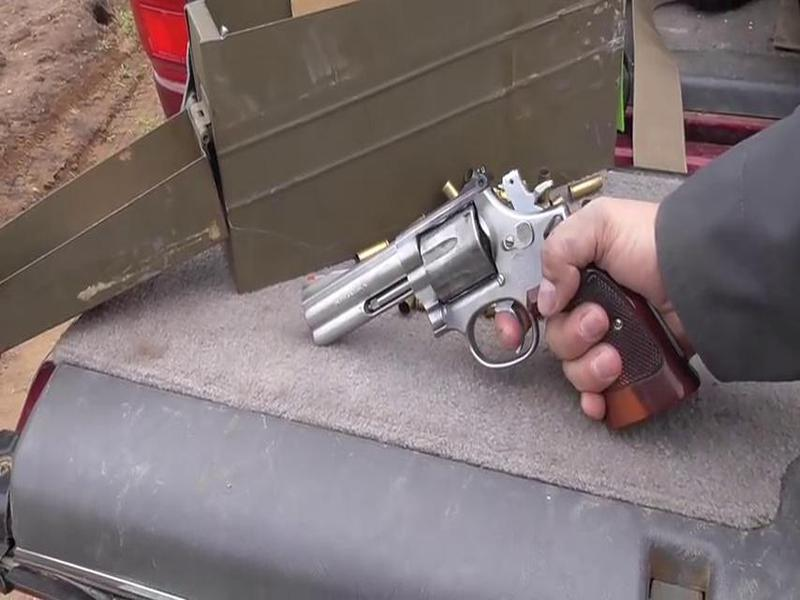Revolver: (284, 174, 650, 436)
